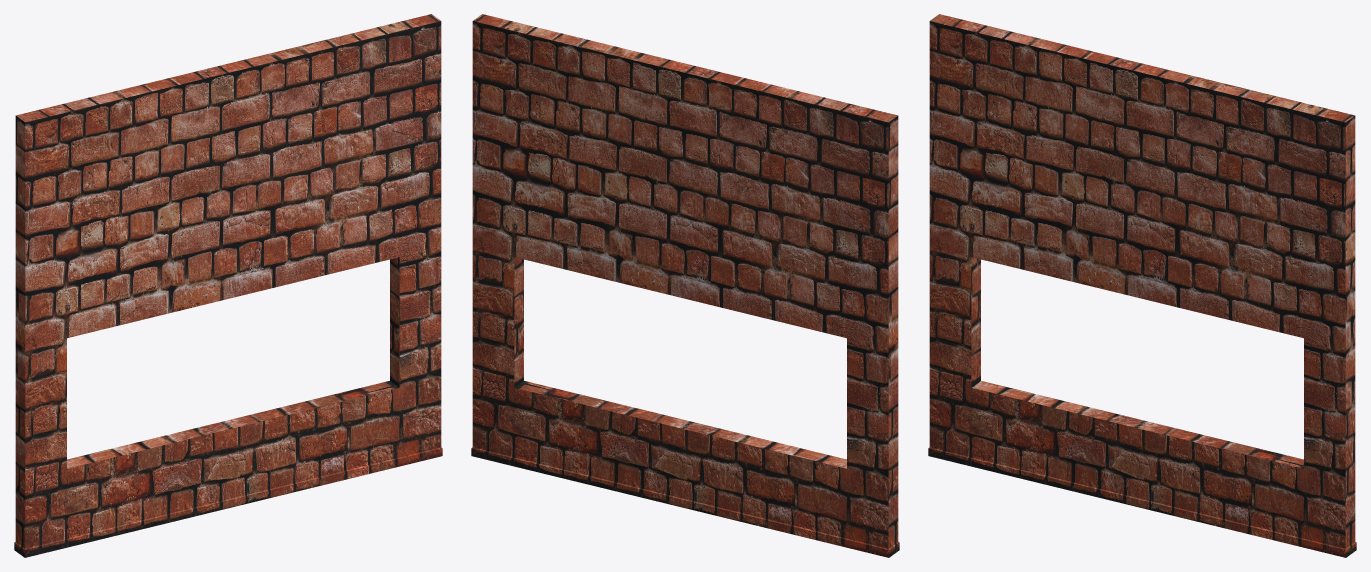
File: WallWindow.obj
3 views of the same model, side by side, from view 1: azimuth 30°, elevation 25°; view 2: azimuth 150°, elevation 25°; view 3: azimuth 330°, elevation 25° (orthographic).
Parts seen in each view (by area): view 1: wall_module_04; view 2: wall_module_04; view 3: wall_module_04.
Boxes of the visible parts, x1=… form: wall_module_04: x1=14, y1=14, x2=442, y2=557; wall_module_04: x1=471, y1=14, x2=899, y2=557; wall_module_04: x1=928, y1=14, x2=1356, y2=557.
Bounding box in the file's own units: 5.02 × 4.99 × 0.22.
2 materials, 2 textured.
